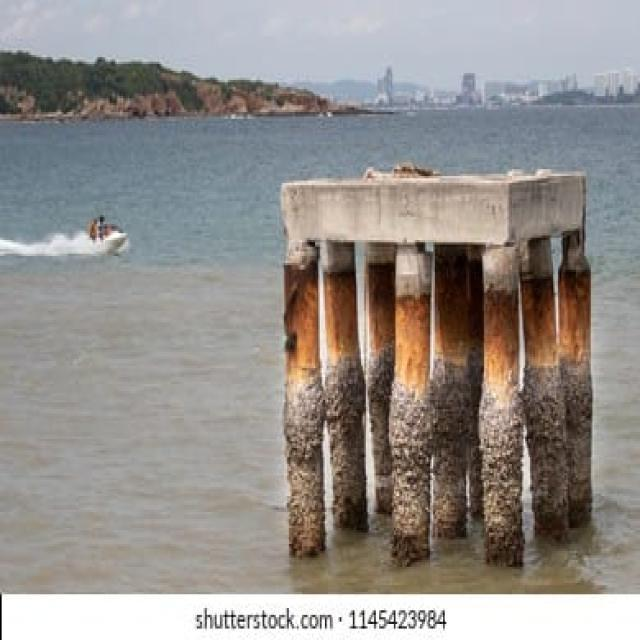Spalling: (390, 244, 433, 566), (285, 240, 327, 554)
corrosion: (394, 293, 429, 384), (482, 285, 519, 369)
